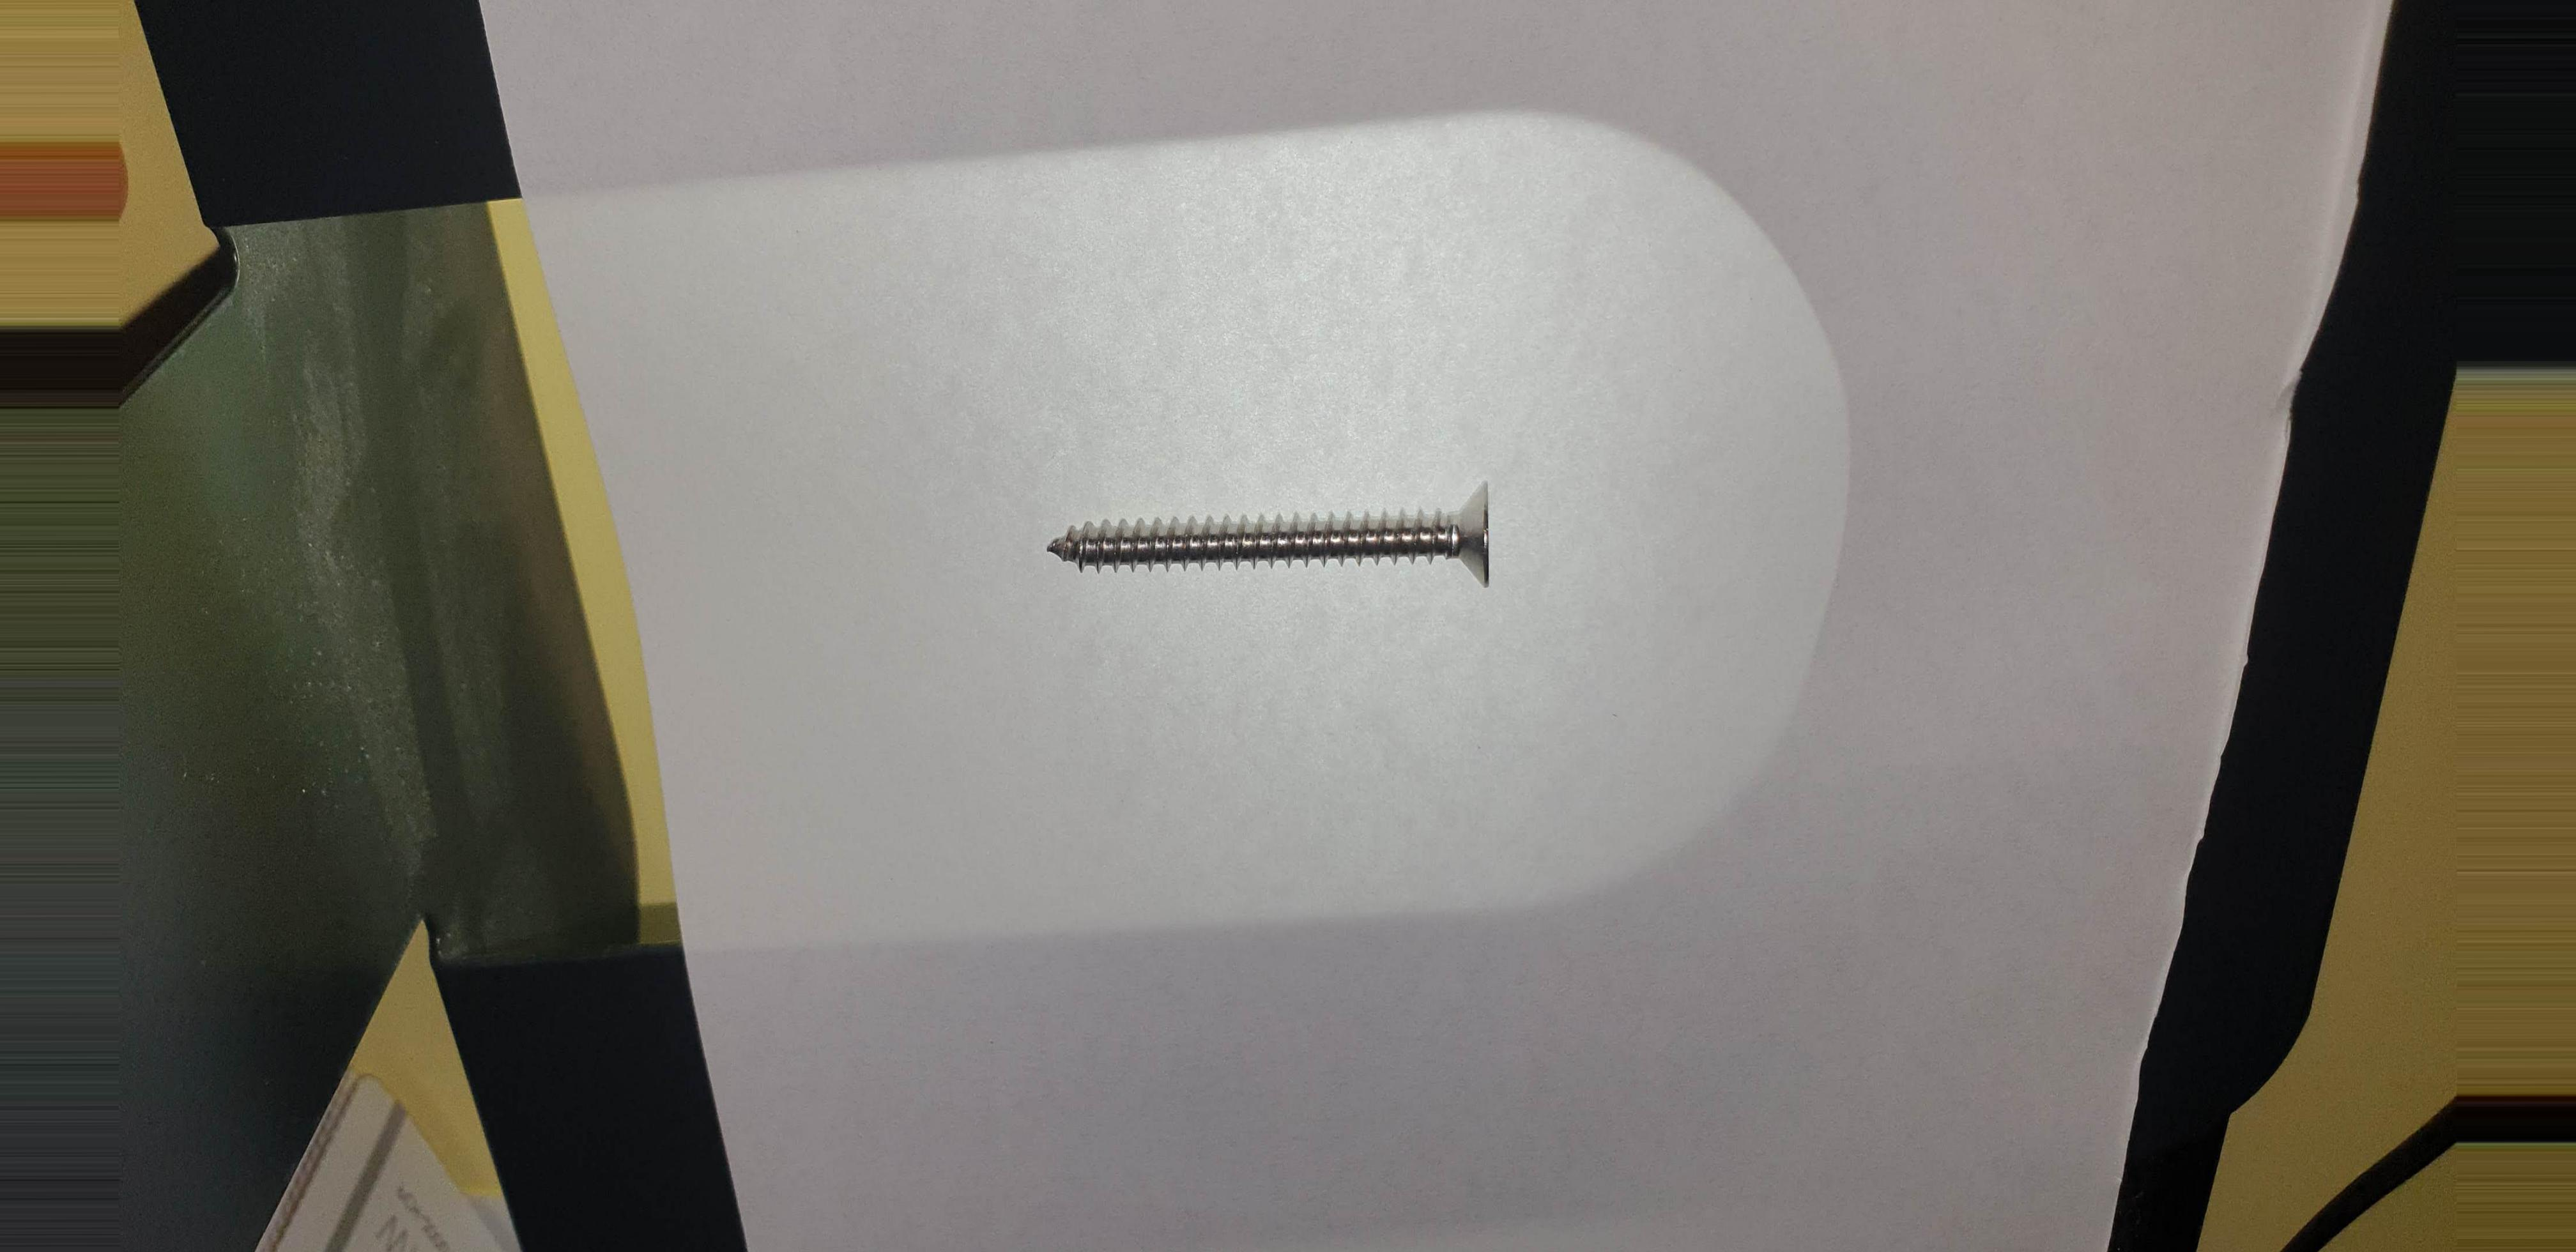fastener: (1002, 458, 1572, 619)
